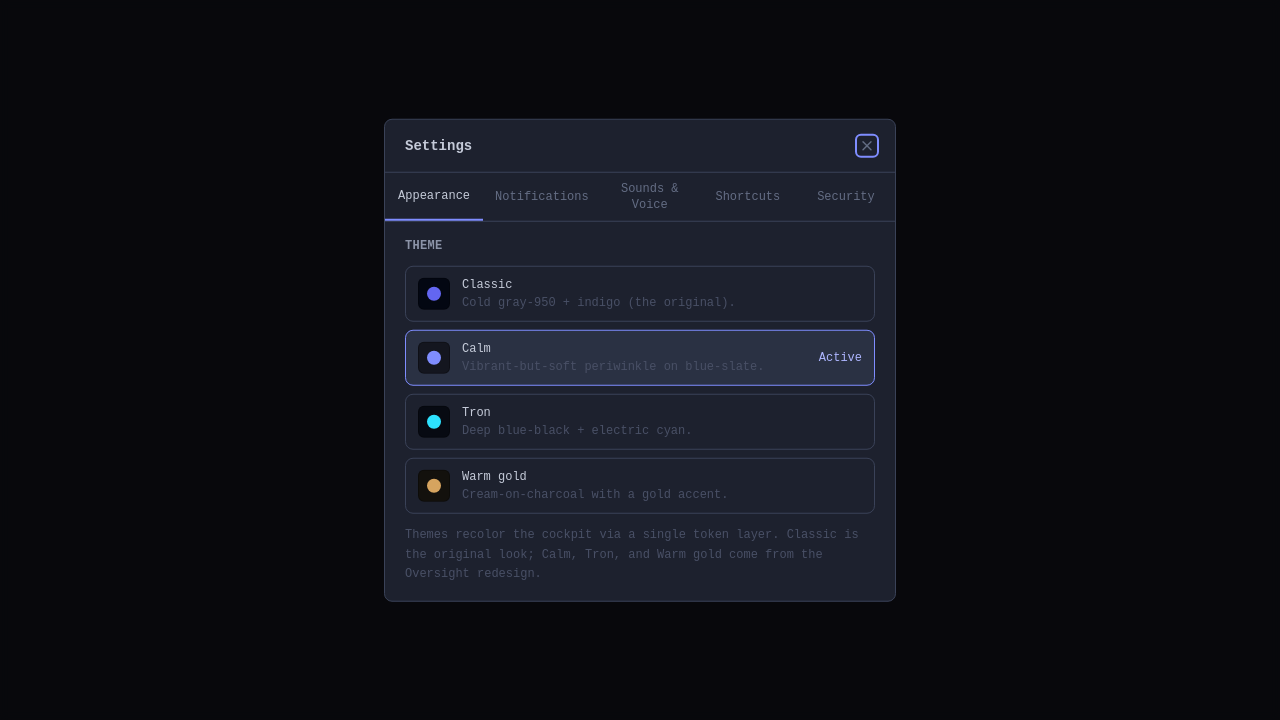
SettingsModal — rendering › shows Notifications tab content when its tab is selected
Click the button "Notifications" at (542, 197), box [483,173,601,221]
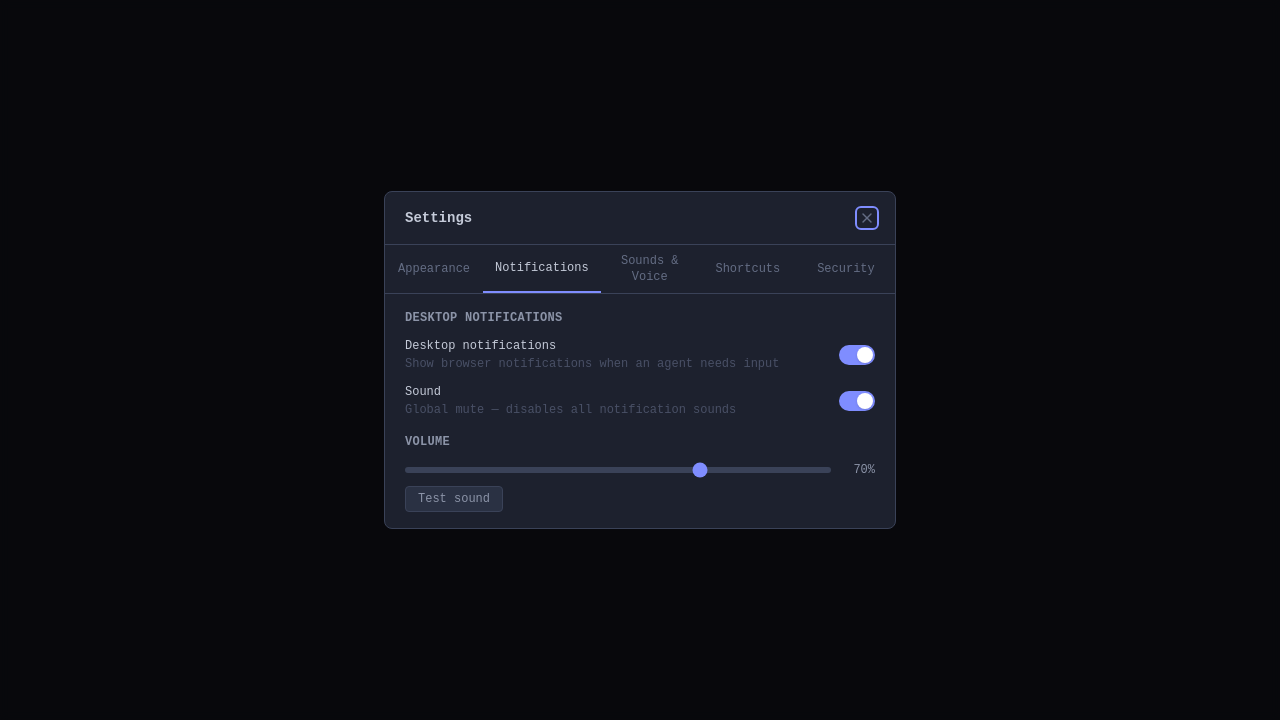
Expected: the text "Desktop notifications" is shown, [405,339,556,353]
Expected: the text "Sound" is shown, [405,385,441,399]
